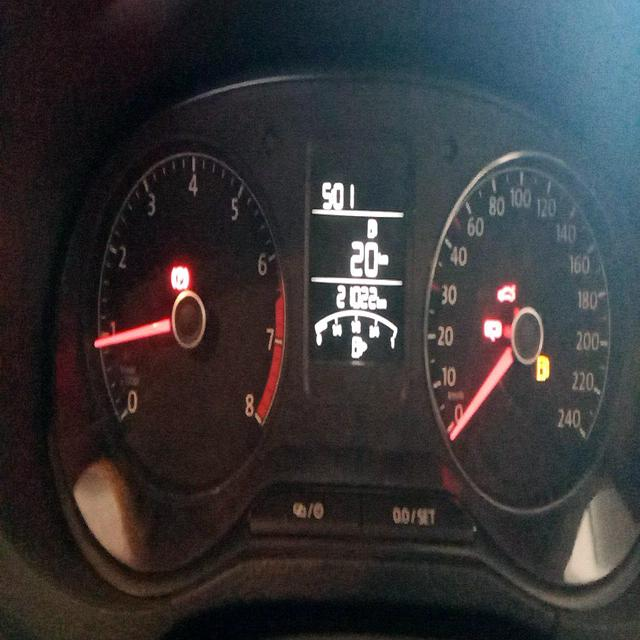odometer: (334, 282, 378, 312)
